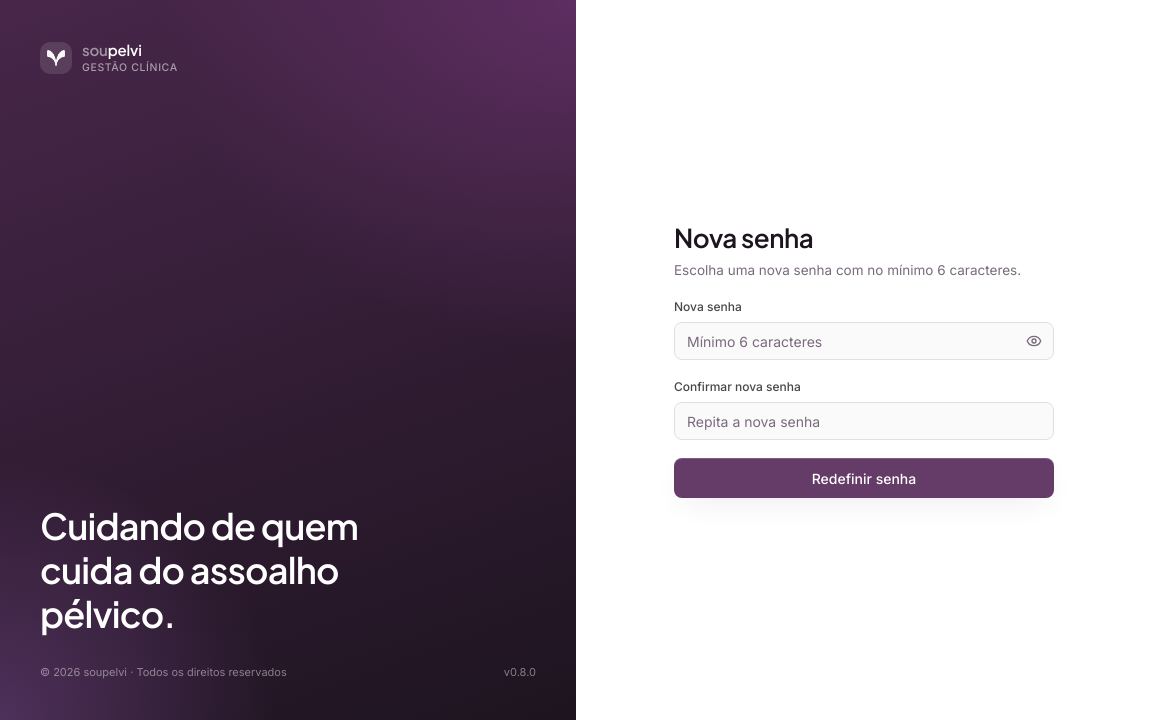
Test: ResetPassword page › exibe erro quando token inválido (400 da API)
Type "novaSenha123" into the password field labelled "Nova senha" at {"x": 864, "y": 341}, box [674,322,1054,360]
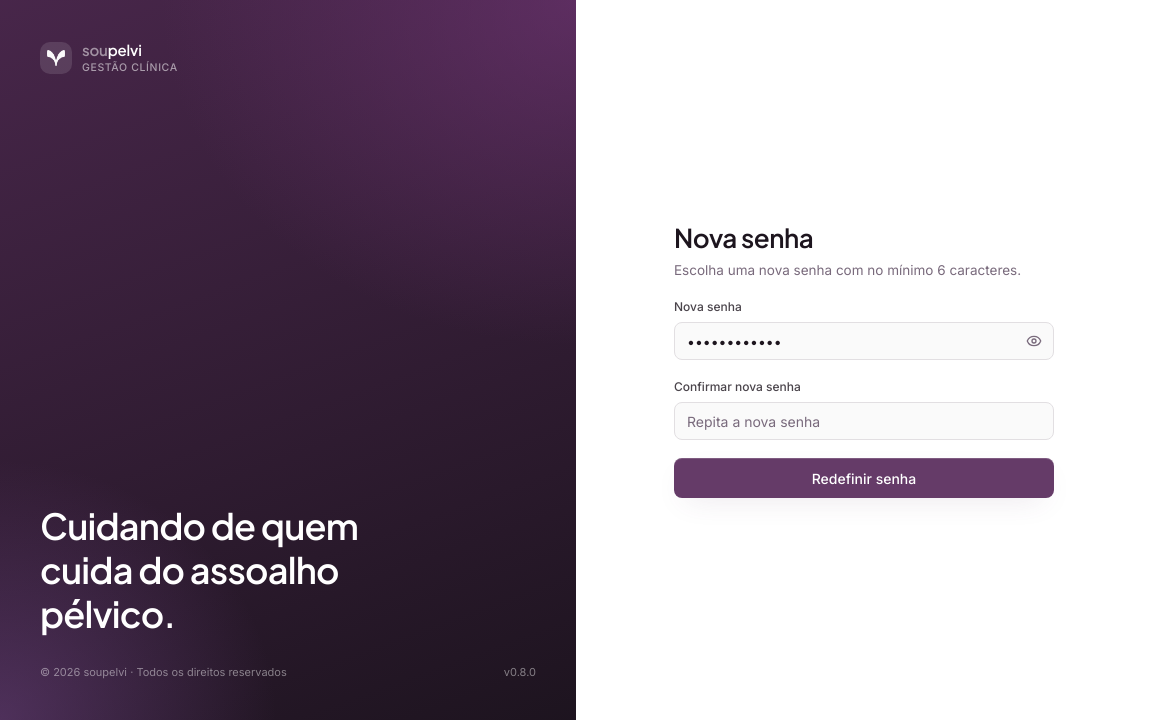
Type "novaSenha123" into the password field labelled "Confirmar nova senha" at {"x": 864, "y": 421}, box [674,402,1054,440]
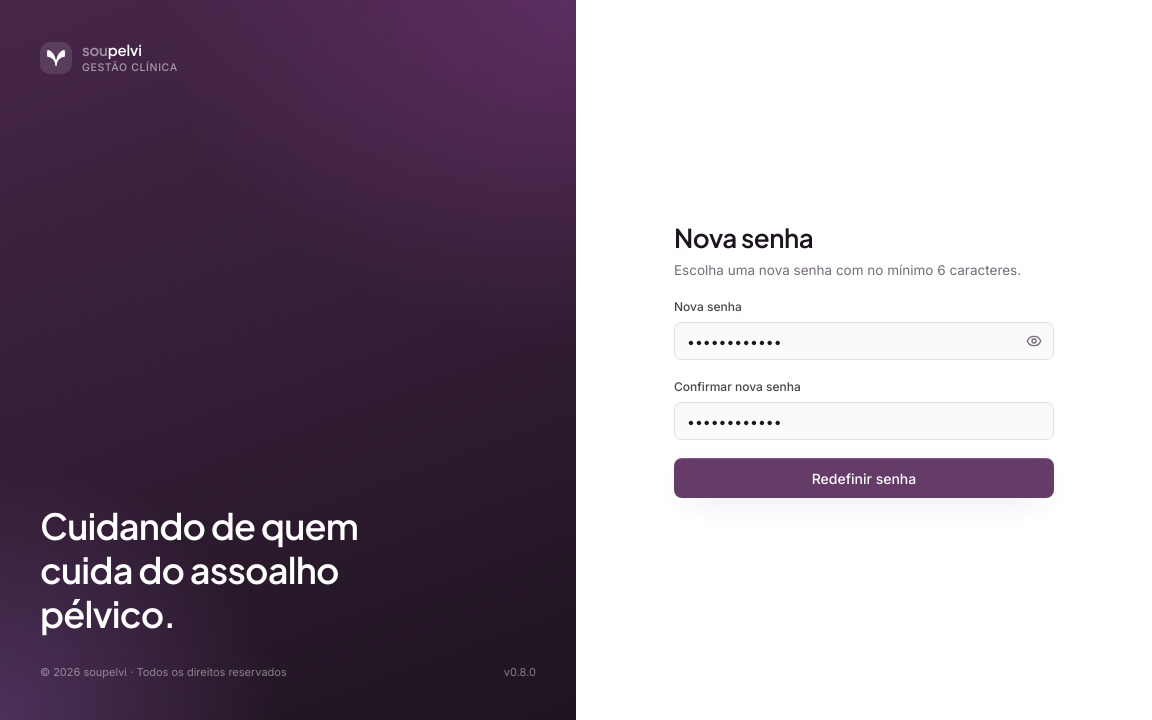
Click the button "Redefinir senha" at {"x": 864, "y": 478}, box [674,458,1054,498]
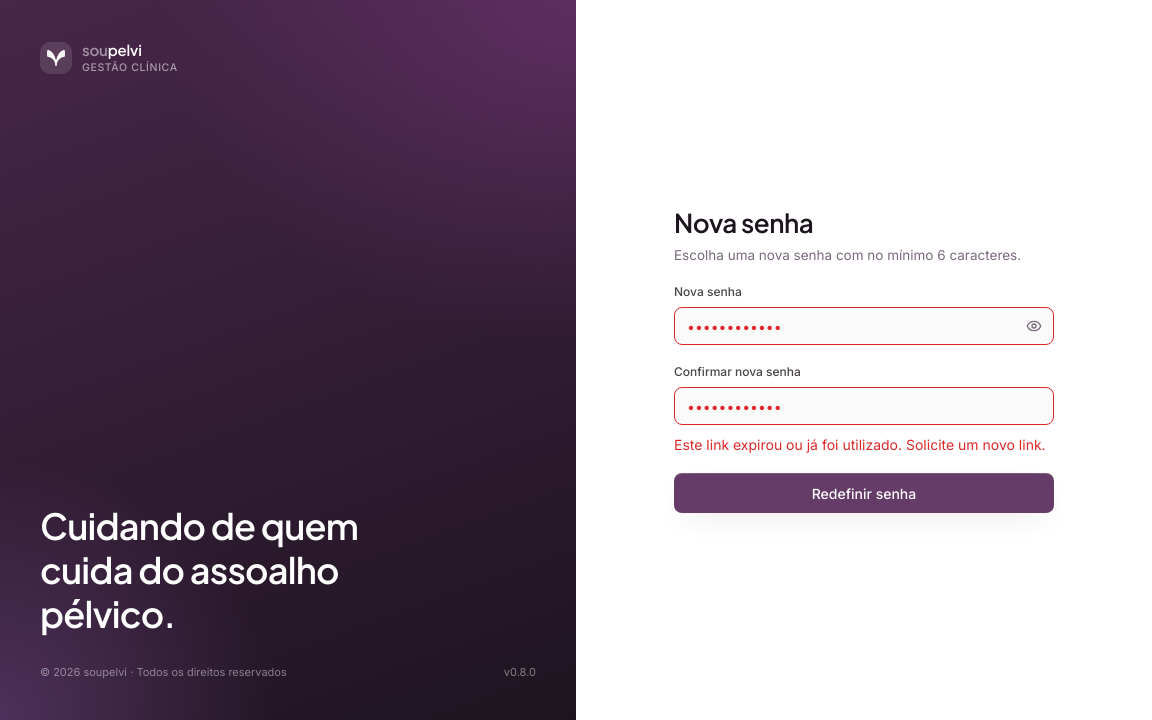
Result: the message shows "link expirou" at [674,436,1046,453]
